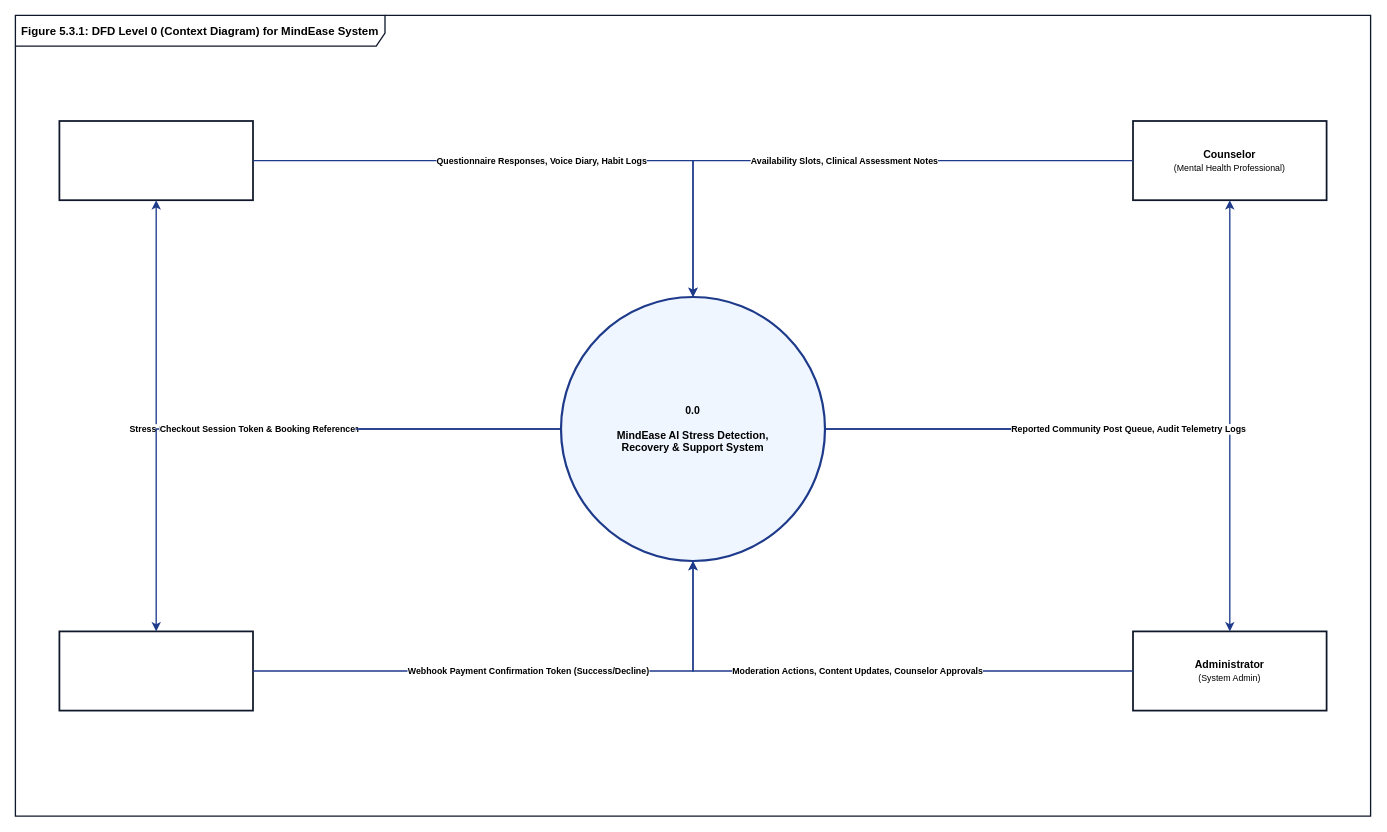
The diagram is 1387 pixels wide and 832 high, and some of its shapes have lost their labels. Here are the shapes that lost their labels. From the top down, the centre of each, then its label:
At [155,160]: "Student (Primary User)".
At [155,670]: "Polar Gateway (External Payment Service)".
